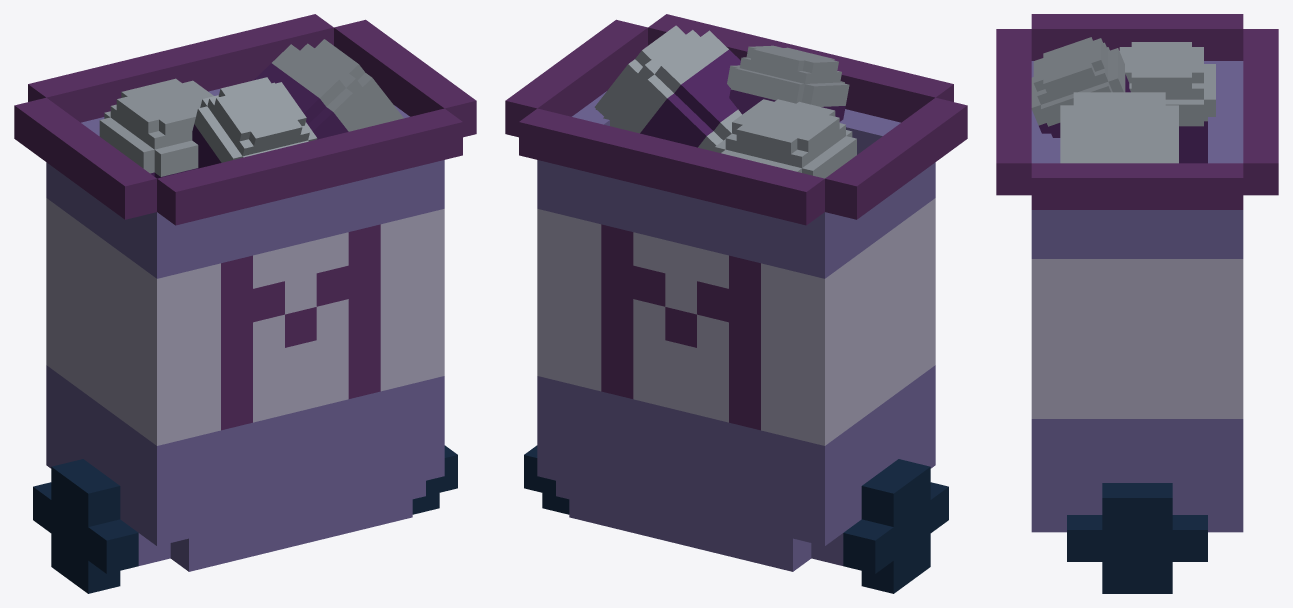
Rendered from conmetfull.gltf.
3 renders of one model, left to right at view 1: azimuth 30°, elevation 25°; view 2: azimuth 150°, elevation 25°; view 3: azimuth 270°, elevation 25°, orthographic. The views are drawn at different scales.
Parts seen in each view (by area): view 1: Object_0, Object_0.002, Object_0.001, Object_0.003; view 2: Object_0, Object_0.002, Object_0.001, Object_0.003; view 3: Object_0, Object_0.002, Object_0.001, Object_0.003.
Boxes of the visible parts, x1,y1,x2,y2 form: Object_0: (14,14,476,593); Object_0.002: (254,39,403,139); Object_0.001: (99,78,213,178); Object_0.003: (192,77,317,168); Object_0: (505,14,967,593); Object_0.002: (594,25,741,151); Object_0.001: (714,99,856,178); Object_0.003: (727,45,849,121); Object_0: (996,14,1278,593); Object_0.002: (1060,92,1178,163); Object_0.001: (1119,42,1215,163); Object_0.003: (1031,37,1130,137).
Bounding box in the file's own units: 1.86 × 2.4 × 1.36.
Materials: 4 (4 with a texture image).
